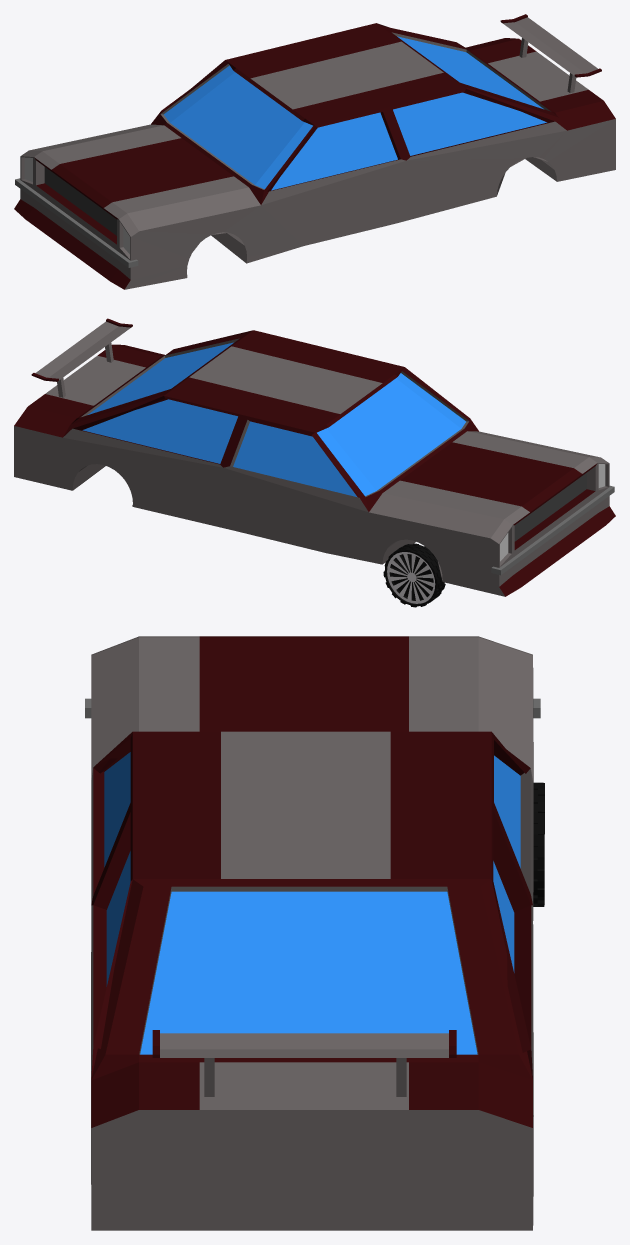
Rendered from frontR.obj.
The picture shows the model from 3 angles, top to bottom: view 1: azimuth 30°, elevation 25°; view 2: azimuth 150°, elevation 25°; view 3: azimuth 270°, elevation 25°; orthographic projection. The views are drawn at different scales.
Visible parts, largest first — view 1: Cube, Plane.001, Cube.001; view 2: Cube, Cylinder.004, Plane.001, Cube.001; view 3: Cube, Plane.001, Cylinder.004.
Part boxes in pixels (x1,y1,x2,y2): Cube: [14, 23, 615, 289]; Plane.001: [500, 14, 601, 77]; Cube.001: [15, 178, 138, 267]; Cube: [14, 330, 615, 596]; Cylinder.004: [383, 543, 445, 607]; Plane.001: [31, 318, 132, 381]; Cube.001: [491, 485, 614, 575]; Cube: [91, 636, 533, 1230]; Plane.001: [152, 1030, 456, 1057]; Cylinder.004: [533, 782, 544, 906].
Bounding box in the file's own units: 6.5 × 1.73 × 2.62.
